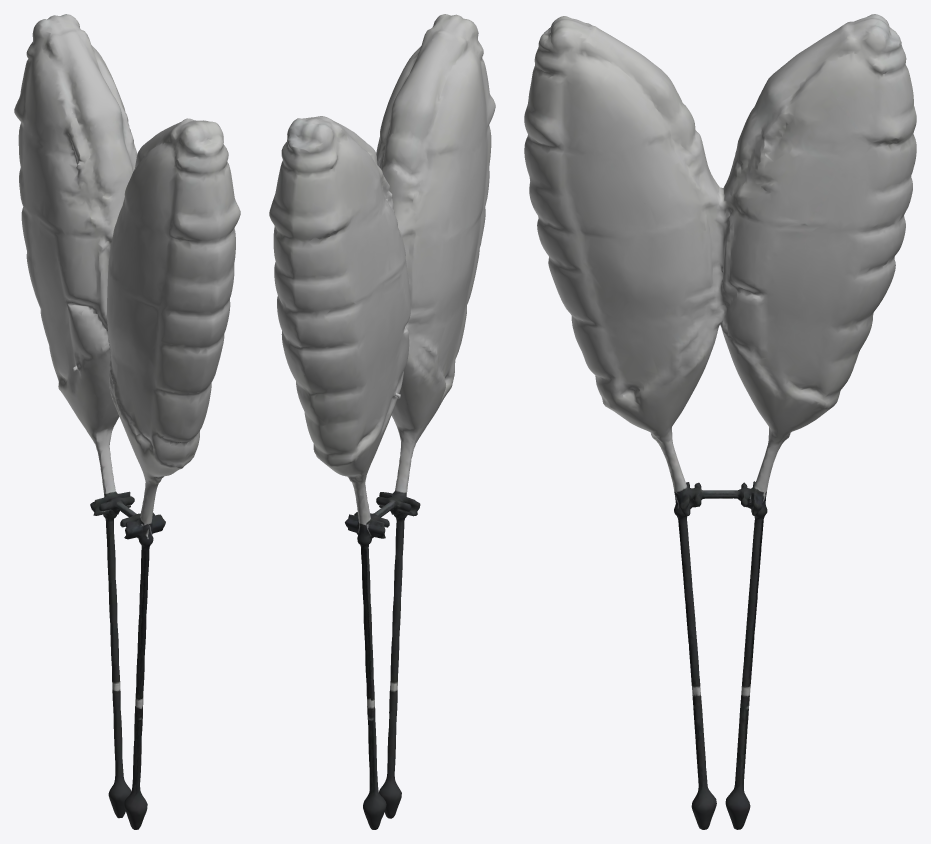
The model's file is balu.glb.
The picture shows the model from 3 angles, left to right: view 1: azimuth 30°, elevation 25°; view 2: azimuth 150°, elevation 25°; view 3: azimuth 270°, elevation 25°; orthographic projection. The views are drawn at different scales.
Parts seen in each view (by area): view 1: tripo_node_b3cc4442-7412-4572-823b-caccf175a03e; view 2: tripo_node_b3cc4442-7412-4572-823b-caccf175a03e; view 3: tripo_node_b3cc4442-7412-4572-823b-caccf175a03e.
Boxes of the visible parts, x1,y1,x2,y2 form: tripo_node_b3cc4442-7412-4572-823b-caccf175a03e: (14, 14, 240, 829); tripo_node_b3cc4442-7412-4572-823b-caccf175a03e: (269, 14, 495, 829); tripo_node_b3cc4442-7412-4572-823b-caccf175a03e: (524, 14, 916, 829).
Bounding box in the file's own units: 0.1277 × 1 × 0.4389.
Materials: 1 (1 with a texture image).
